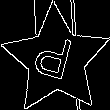P_S: (32, 30, 79, 89)
